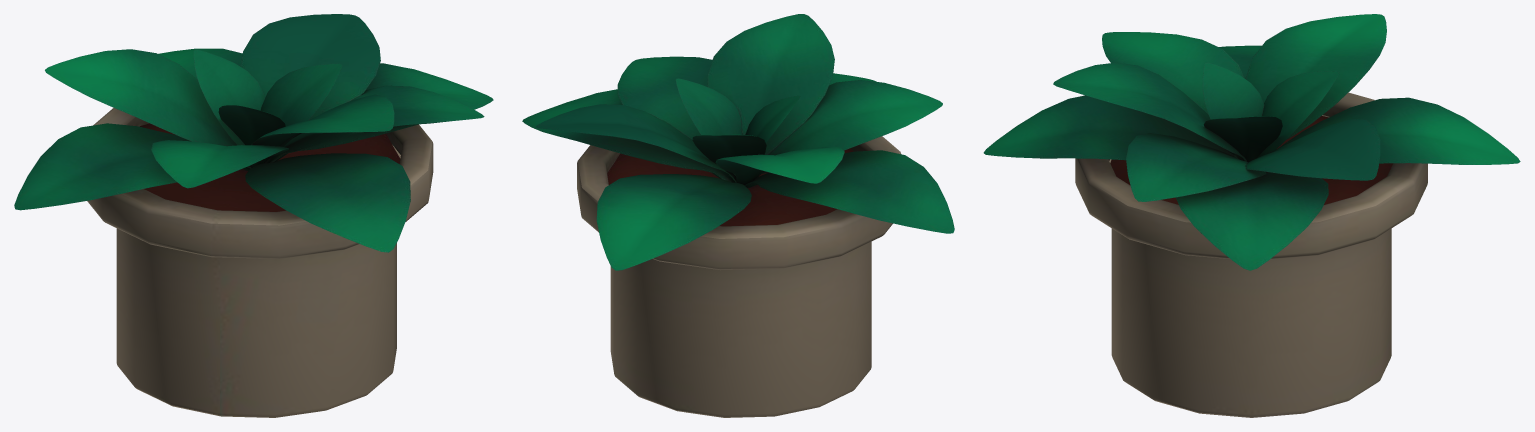
The model's file is Plante_1.fbx.
3 views of the same model, side by side, from view 1: azimuth 30°, elevation 25°; view 2: azimuth 150°, elevation 25°; view 3: azimuth 270°, elevation 25° (orthographic). The views are drawn at different scales.
Visible parts, largest first — view 1: Cylinder.007, Plane.021, Plane.019, Plane.020, Plane.017, Cylinder.006, Plane.015, Plane.016, Plane.018, Plane.013, Plane.014, Plane.022 (+2 smaller); view 2: Cylinder.007, Plane.018, Plane.023, Plane.020, Plane.015, Plane.016, Plane.017, Cylinder.006, Plane.022, Plane.019, Plane.013, Plane.014 (+1 smaller); view 3: Cylinder.007, Plane.022, Plane.019, Plane.021, Plane.023, Plane.016, Plane.018, Plane.017, Plane.015, Plane.014, Plane.012, Plane.013 (+2 smaller).
Boxes of the visible parts, x1,y1,x2,y2 form: Cylinder.007: (87,108,433,417); Plane.021: (245,153,410,252); Plane.019: (45,49,249,166); Plane.020: (14,123,251,210); Plane.017: (240,14,380,119); Cylinder.006: (140,123,400,211); Plane.015: (151,140,288,188); Plane.016: (265,85,484,163); Plane.018: (251,94,394,163); Plane.013: (260,63,342,146); Plane.014: (193,49,264,145); Plane.022: (270,63,493,162); Cylinder.007: (577,136,900,417); Plane.018: (707,14,834,154); Plane.023: (596,174,751,270); Plane.020: (744,150,954,233); Plane.015: (751,80,942,181); Plane.016: (617,56,712,139); Plane.017: (535,104,736,182); Cylinder.006: (607,148,853,226); Plane.022: (522,89,730,181); Plane.019: (715,147,844,185); Plane.013: (675,78,742,176); Plane.014: (692,134,766,180); Cylinder.007: (1075,92,1427,417); Plane.022: (1175,172,1328,270); Plane.019: (1245,14,1386,139); Plane.021: (983,95,1234,160); Plane.023: (1279,97,1520,164); Plane.016: (1126,133,1266,201); Plane.018: (1053,62,1245,161); Plane.017: (1245,118,1380,180); Plane.015: (1102,32,1245,158); Plane.014: (1257,71,1339,157); Plane.012: (1202,62,1264,161); Plane.013: (1203,116,1282,162).
Bounding box in the file's own units: 25.64 × 25.63 × 15.41.
